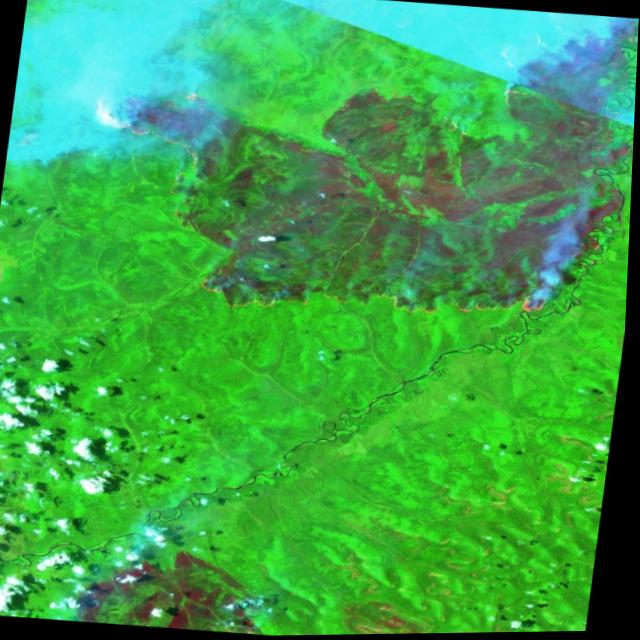fire: (78, 74, 233, 214), (377, 277, 559, 330), (195, 271, 343, 320)
